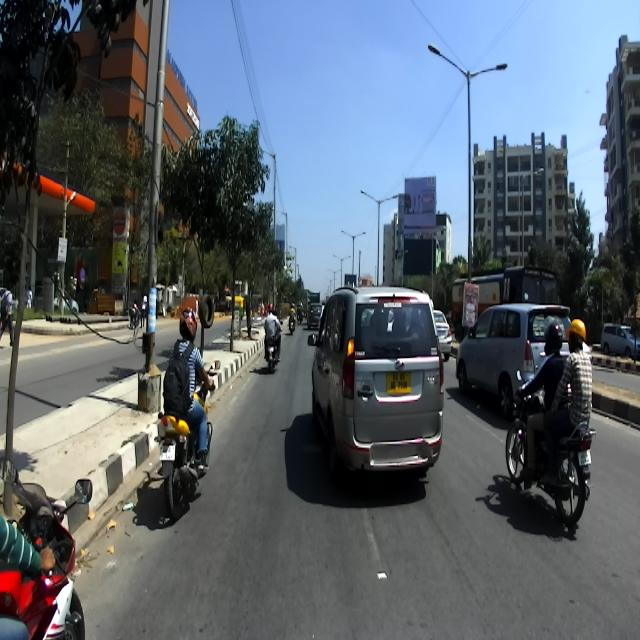car ahead at: (310, 278, 445, 490)
motorcycle ahead at: (506, 398, 592, 538), (156, 404, 214, 508)
